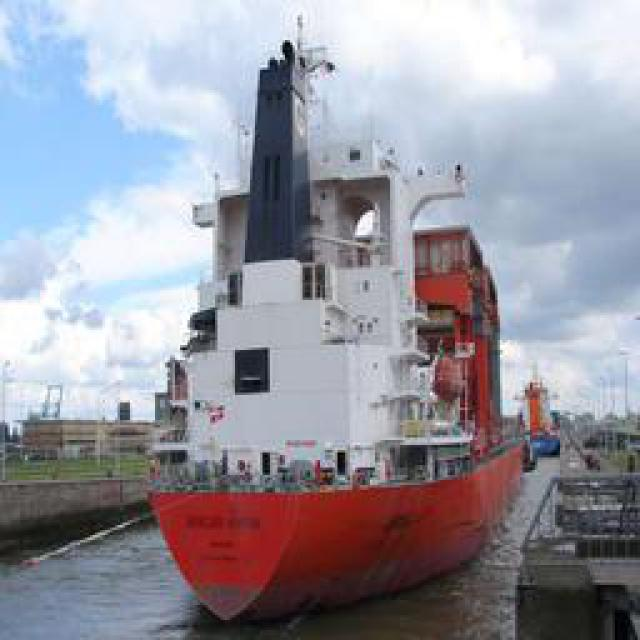Ship: (146, 49, 521, 624)
